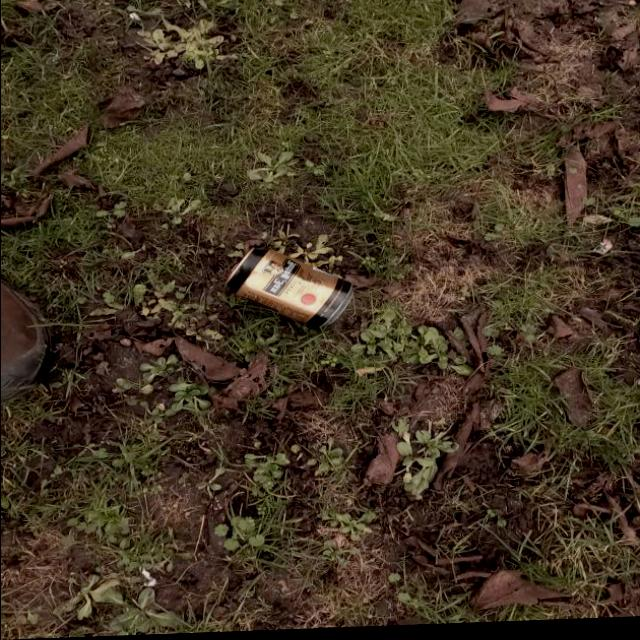Can-Metal: (220, 245, 356, 335)
